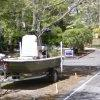Boat: (5, 35, 66, 81)
